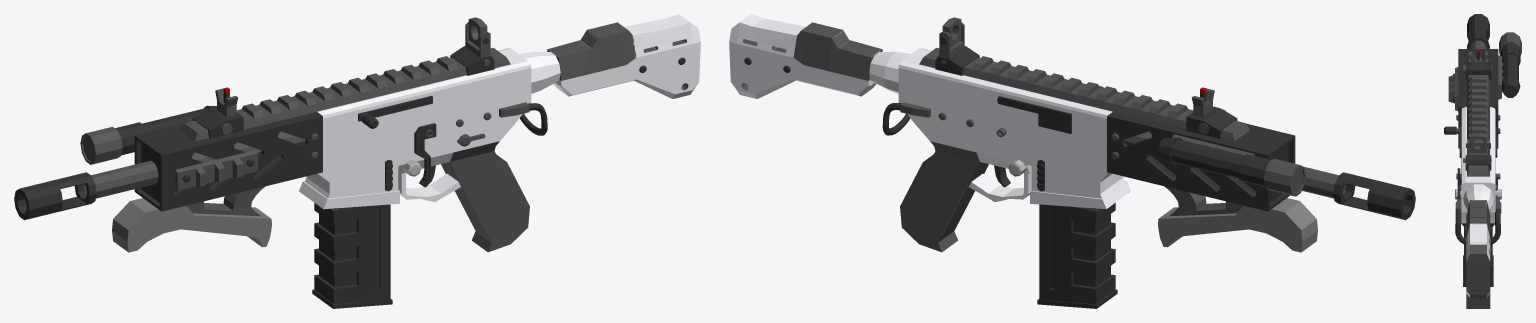
Rendered from peacekeeper.glb.
3 views of the same model, side by side, from view 1: azimuth 30°, elevation 25°; view 2: azimuth 150°, elevation 25°; view 3: azimuth 270°, elevation 25° (orthographic). The views are drawn at different scales.
Parts seen in each view (by area): view 1: Cylinder.010_49, Cylinder.010_48, Cylinder.010_51, Cylinder.010_23, Cylinder.010_46, Cylinder.010_19, Cylinder.010_3, Cylinder.010_57, Cylinder.010_47, Cylinder.010_8, Cylinder.010_20, Cylinder.010_52 (+10 smaller); view 2: Cylinder.010_49, Cylinder.010_51, Cylinder.010_48, Cylinder.010_23, Cylinder.010_46, Cylinder.010_19, Cylinder.010_3, Cylinder.010_10, Cylinder.010_8, Cylinder.010_20, Cylinder.010_52, Cylinder.010_1 (+6 smaller); view 3: Cylinder.010_51, Cylinder.010_49, Cylinder.010_46, Cylinder.010_48, Cylinder.010_3, Cylinder.010_52, Cylinder.010_45, Cylinder.010_10, Cylinder.010_47, Cylinder.010_23, Cylinder.010_6, Cylinder.010_8 (+14 smaller).
Part boxes in pixels (x1,y1,x2,y2): Cylinder.010_49: (299,48,531,252); Cylinder.010_48: (134,112,322,211); Cylinder.010_51: (547,14,700,98); Cylinder.010_23: (312,203,392,308); Cylinder.010_46: (180,47,510,141); Cylinder.010_19: (112,198,271,252); Cylinder.010_3: (14,172,96,220); Cylinder.010_57: (84,131,305,198); Cylinder.010_47: (175,150,257,190); Cylinder.010_8: (80,127,122,164); Cylinder.010_20: (186,186,265,216); Cylinder.010_52: (519,51,560,93); Cylinder.010_49: (898,48,1130,252); Cylinder.010_51: (729,14,882,98); Cylinder.010_48: (1107,112,1295,211); Cylinder.010_23: (1037,203,1117,308); Cylinder.010_46: (919,47,1249,141); Cylinder.010_19: (1158,198,1317,252); Cylinder.010_3: (1333,172,1415,220); Cylinder.010_10: (1171,139,1244,178); Cylinder.010_8: (1263,158,1305,196); Cylinder.010_20: (1164,186,1243,216); Cylinder.010_52: (869,51,910,93); Cylinder.010_1: (997,96,1071,133); Cylinder.010_51: (1466,200,1490,298); Cylinder.010_49: (1460,107,1496,308); Cylinder.010_46: (1467,59,1489,176); Cylinder.010_48: (1458,49,1498,148); Cylinder.010_3: (1467,14,1489,48); Cylinder.010_52: (1463,184,1493,212); Cylinder.010_45: (1455,208,1500,244); Cylinder.010_10: (1502,54,1518,80); Cylinder.010_47: (1448,67,1458,110); Cylinder.010_23: (1463,227,1493,286); Cylinder.010_6: (1502,77,1520,97); Cylinder.010_8: (1499,32,1521,55).
Size of the model in its own units: 9.99 by 3.6 by 1.36.
63 materials, 3 textured.
